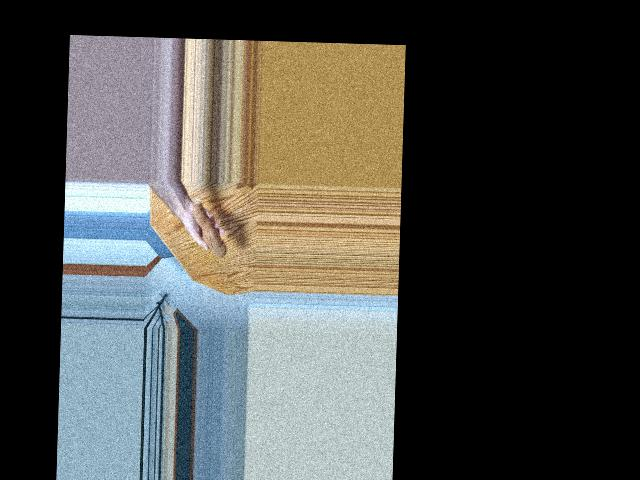sweet_potato: (186, 197, 228, 259)
